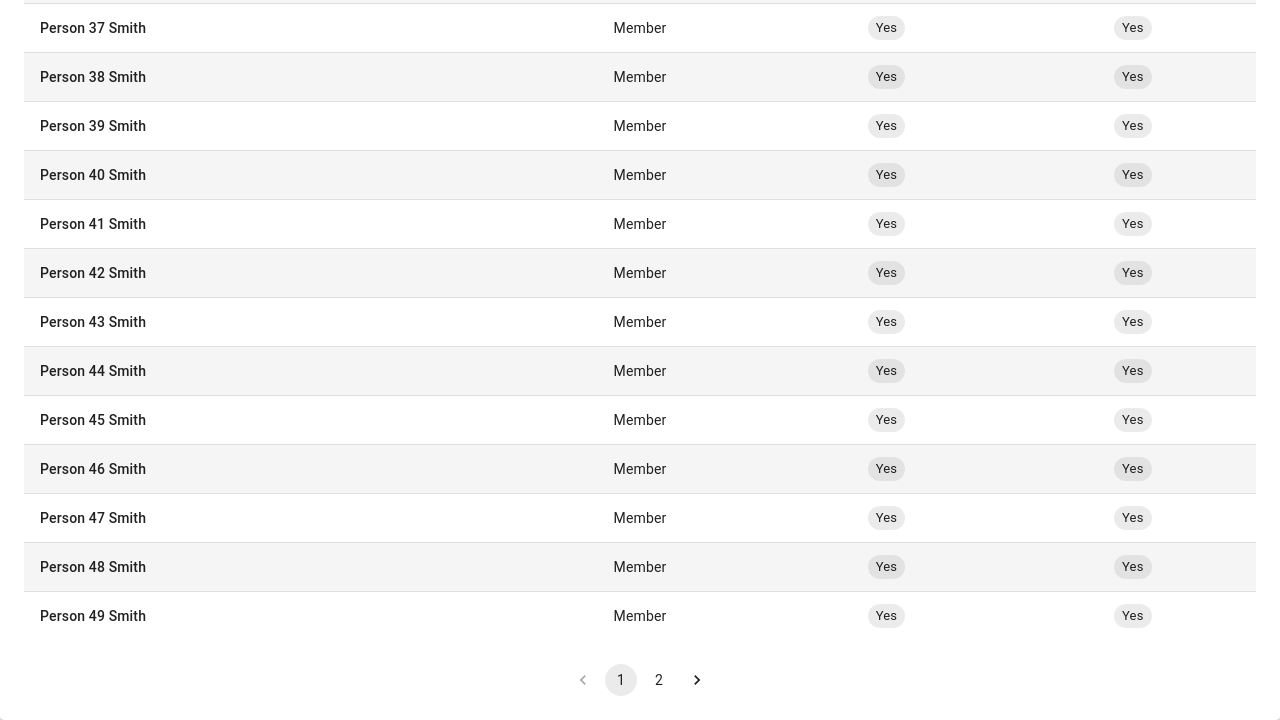
Scenario: event attendees › paginates longer lists
The image size is (1280, 720).
(page scrolled)
Expected: the text "Person 50 Smith" is not shown
Click the button named "Go to page 2" at (659,680), box [643,664,675,696]
(page scrolled)
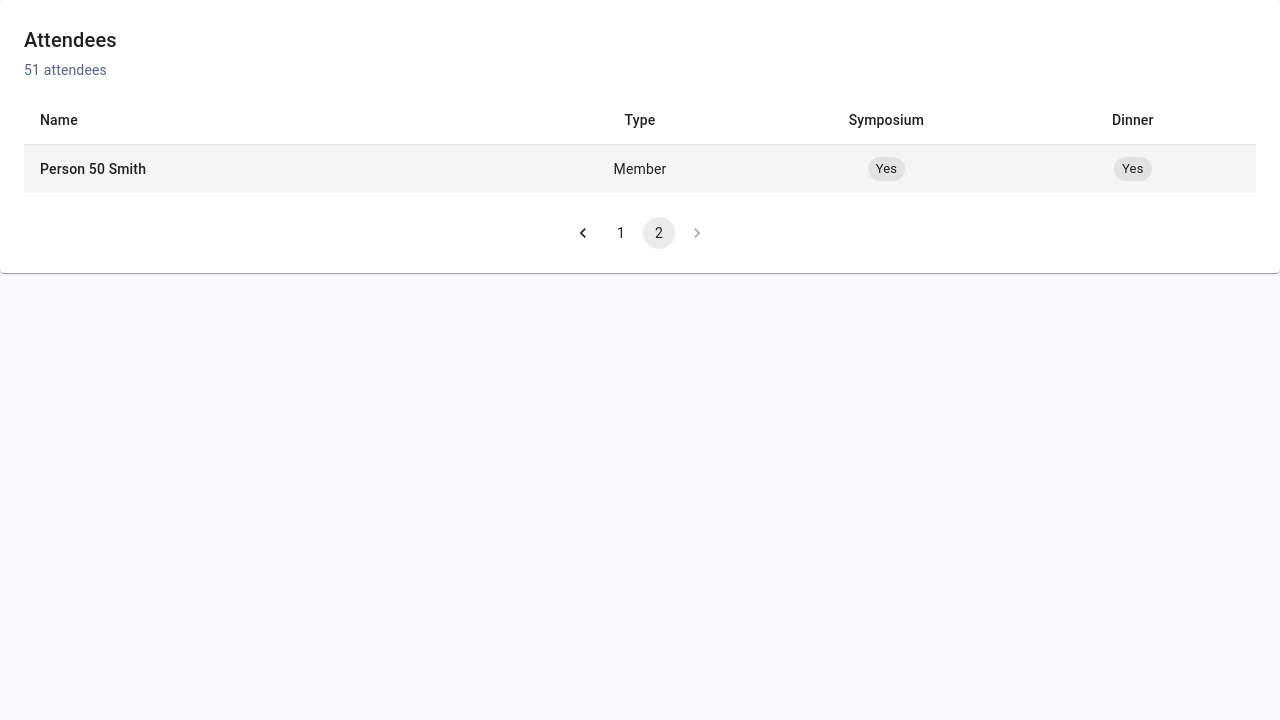
Expected: the column heading "Person 50 Smith" is shown, [24,144,517,193]
